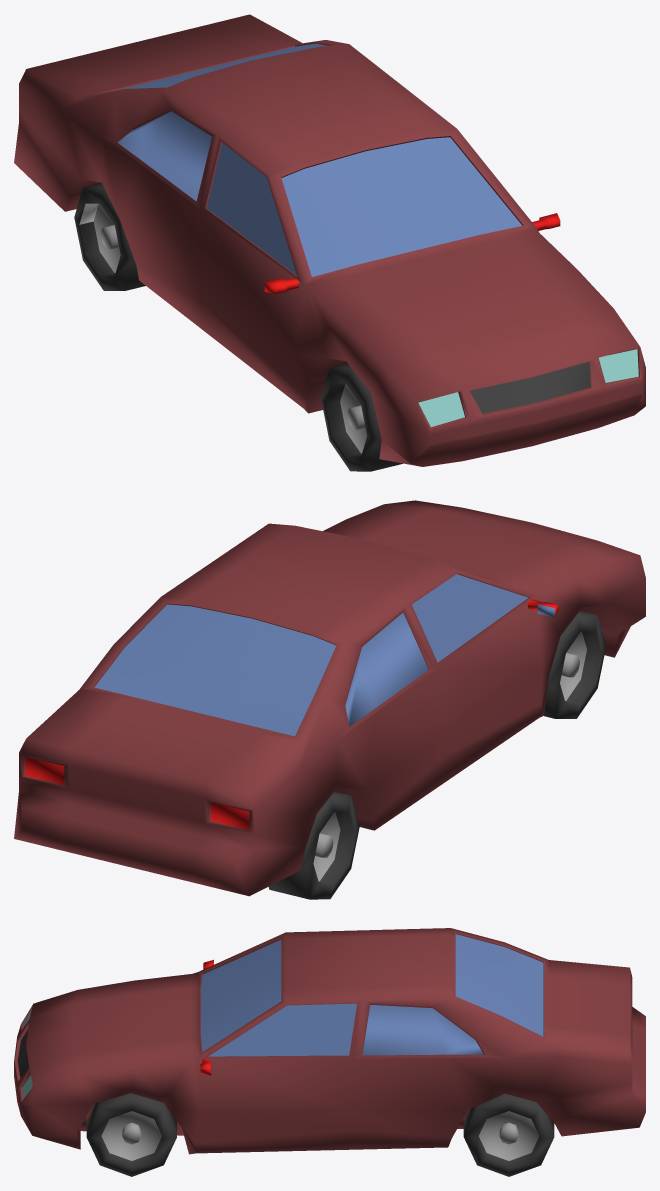
Rendered from Car.fbx.
The picture shows the model from 3 angles, top to bottom: view 1: azimuth 30°, elevation 25°; view 2: azimuth 150°, elevation 25°; view 3: azimuth 270°, elevation 25°; orthographic projection. The views are drawn at different scales.
Parts seen in each view (by area): view 1: Car; view 2: Car; view 3: Car.
Part boxes in pixels (<box>): Car: <box>14,14,645,471</box>; Car: <box>14,500,645,899</box>; Car: <box>14,928,645,1176</box>.
Bounding box in the file's own units: 194 × 148 × 478.
